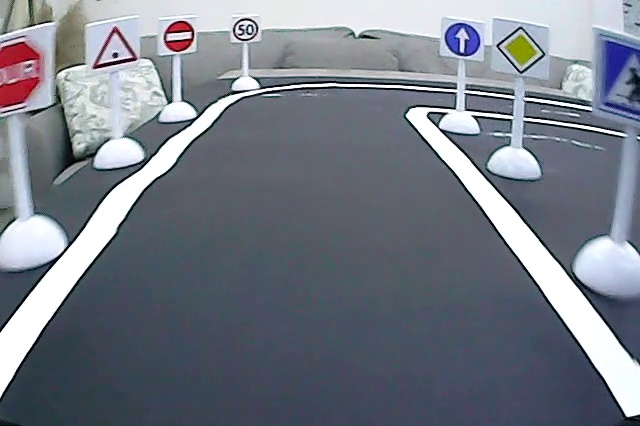do not enter: (162, 18, 196, 55)
green light: (91, 22, 141, 72)
pedestrian crossing: (596, 32, 640, 121)
speed limit 50: (231, 16, 260, 42)
stop sign: (1, 32, 49, 115)
